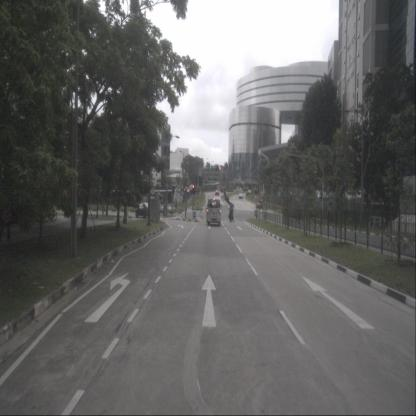vehicle-car: (207, 197, 221, 226), (135, 203, 155, 219), (256, 199, 262, 208), (239, 192, 243, 200), (215, 189, 219, 196)
vehicle-motorcycle: (228, 203, 234, 222)
